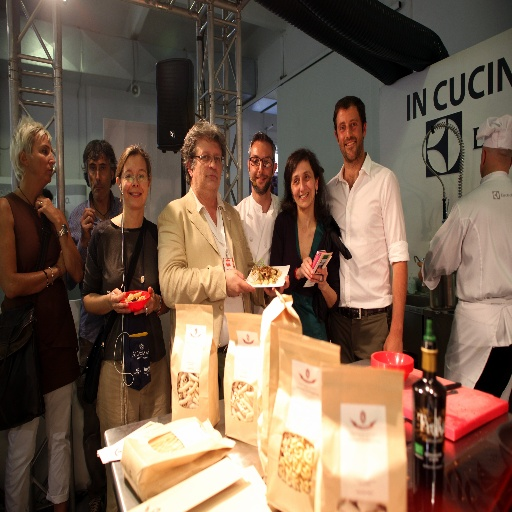hand: (224, 268, 256, 298), (34, 193, 59, 224), (133, 287, 158, 317), (78, 207, 95, 247), (108, 287, 130, 316), (264, 275, 290, 299), (298, 256, 313, 283), (417, 258, 429, 290), (311, 266, 327, 287), (54, 250, 65, 277)
